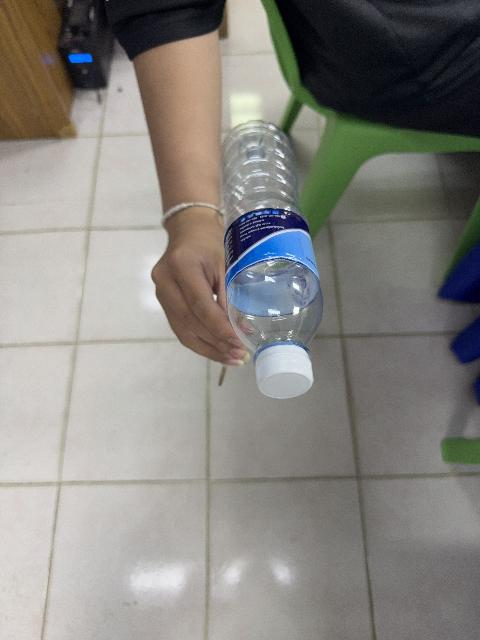bottle: (222, 121, 323, 398)
